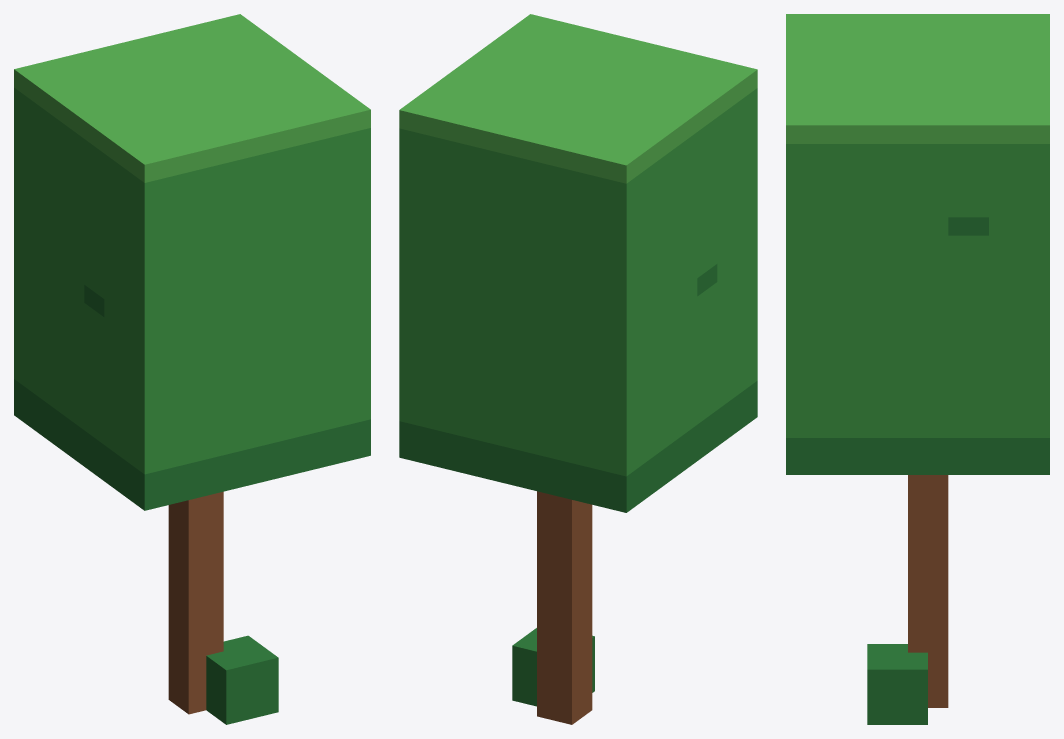
The model's file is deco_tree_box_small.glb.
3 views of the same model, side by side, from view 1: azimuth 30°, elevation 25°; view 2: azimuth 150°, elevation 25°; view 3: azimuth 270°, elevation 25° (orthographic).
Visible parts, largest first — view 1: model_0; view 2: model_0; view 3: model_0.
Boxes of the visible parts, bbox=[...] form: model_0: bbox=[14, 14, 370, 724]; model_0: bbox=[399, 14, 757, 724]; model_0: bbox=[786, 14, 1049, 724].
Bounding box in the file's own units: 0.52 × 1.36 × 0.52.
